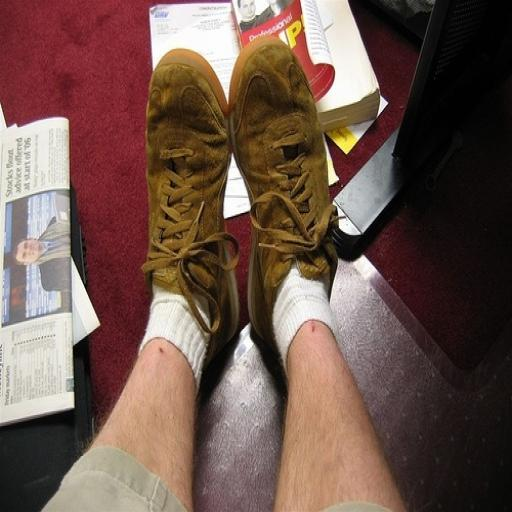shoe: (228, 37, 338, 347), (142, 49, 239, 365)
